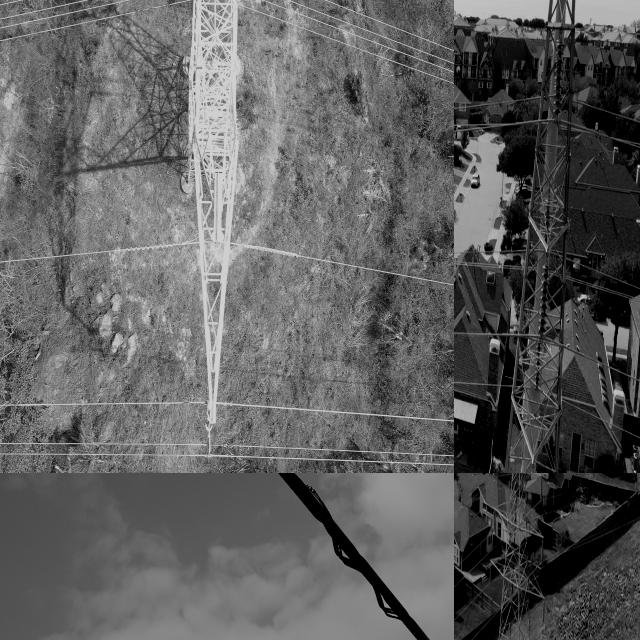杆塔: (495, 0, 584, 473), (172, 0, 256, 453), (488, 473, 553, 640)
正常绝缘子: (191, 398, 226, 459), (535, 252, 549, 350), (552, 36, 564, 120), (540, 596, 547, 626), (487, 557, 494, 587), (538, 473, 544, 506), (491, 509, 498, 536), (540, 534, 544, 568)
电缆破损: (253, 473, 449, 640)
